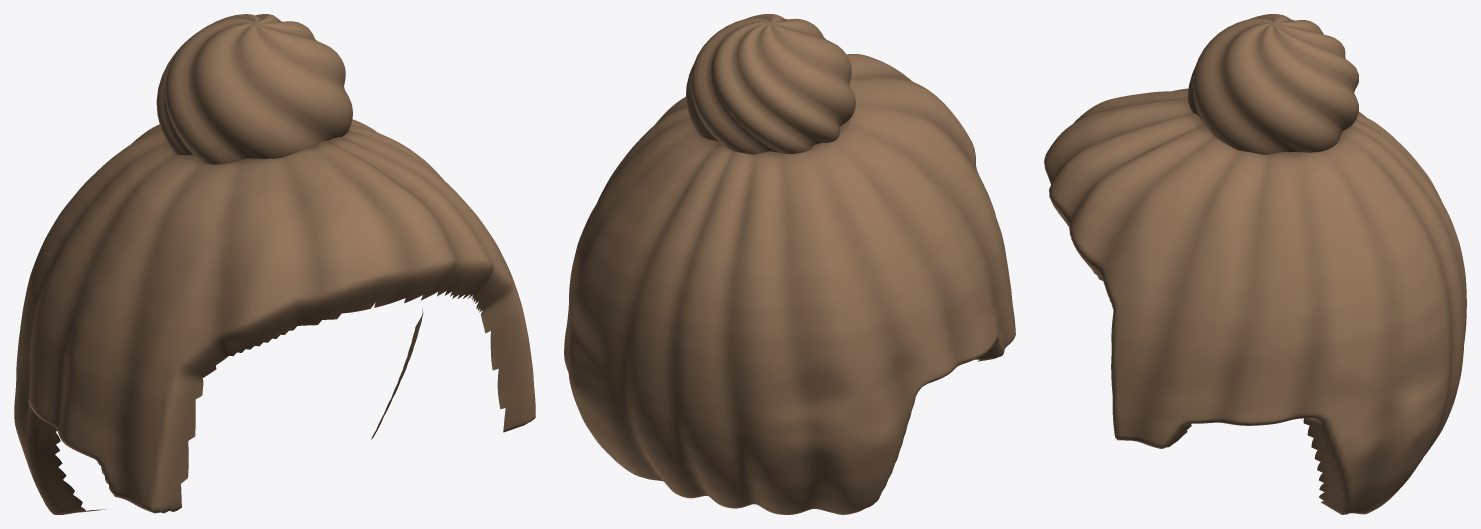
Rendered from bun.gltf.
3 views of the same model, side by side, from view 1: azimuth 30°, elevation 25°; view 2: azimuth 150°, elevation 25°; view 3: azimuth 270°, elevation 25° (orthographic). The views are drawn at different scales.
Parts seen in each view (by area): view 1: Hair_bun; view 2: Hair_bun; view 3: Hair_bun.
Part boxes in pixels (x1,y1,x2,y2): Hair_bun: (14,14,535,514); Hair_bun: (564,14,1015,514); Hair_bun: (1044,14,1466,514).
Bounding box in the file's own units: 0.4465 × 0.487 × 0.4247.
